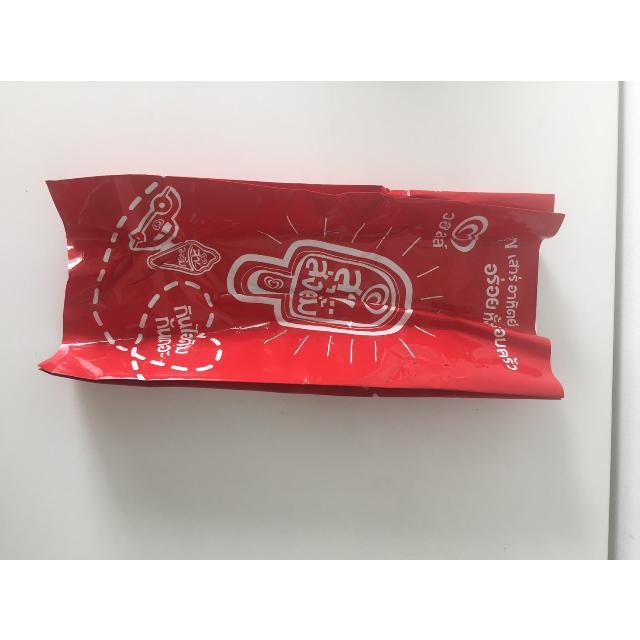Paquete de plastico: (31, 180, 572, 402)
